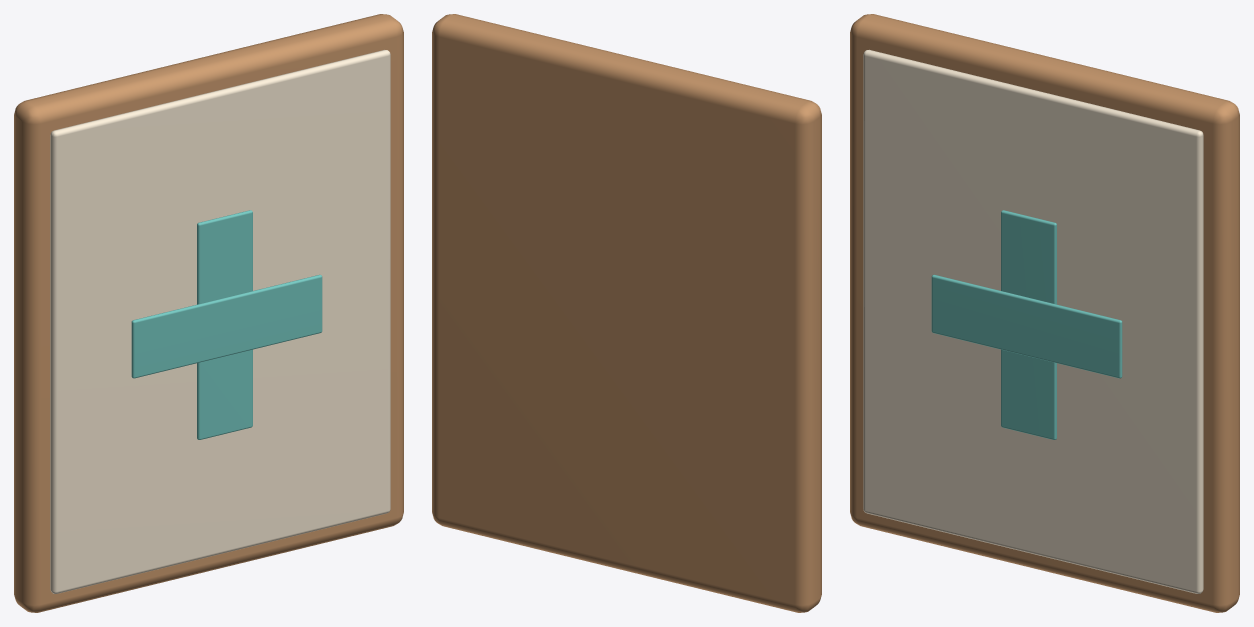
Rendered from posterMedical.glb.
3 renders of one model, left to right at view 1: azimuth 30°, elevation 25°; view 2: azimuth 150°, elevation 25°; view 3: azimuth 330°, elevation 25°, orthographic.
Parts seen in each view (by area): view 1: Paper, Frame, Symbol horizontal, Symbol vertical; view 2: Frame; view 3: Paper, Frame, Symbol horizontal, Symbol vertical.
Part boxes in pixels (bbox=[...]): Paper: bbox=[50, 49, 390, 593]; Frame: bbox=[14, 14, 403, 612]; Symbol horizontal: bbox=[131, 274, 322, 378]; Symbol vertical: bbox=[197, 210, 252, 439]; Frame: bbox=[432, 14, 821, 612]; Paper: bbox=[863, 49, 1203, 593]; Frame: bbox=[850, 14, 1239, 612]; Symbol horizontal: bbox=[931, 274, 1122, 378]; Symbol vertical: bbox=[1001, 210, 1056, 439].
Size of the model in its own units: 1.1 by 1.4 by 0.146.
